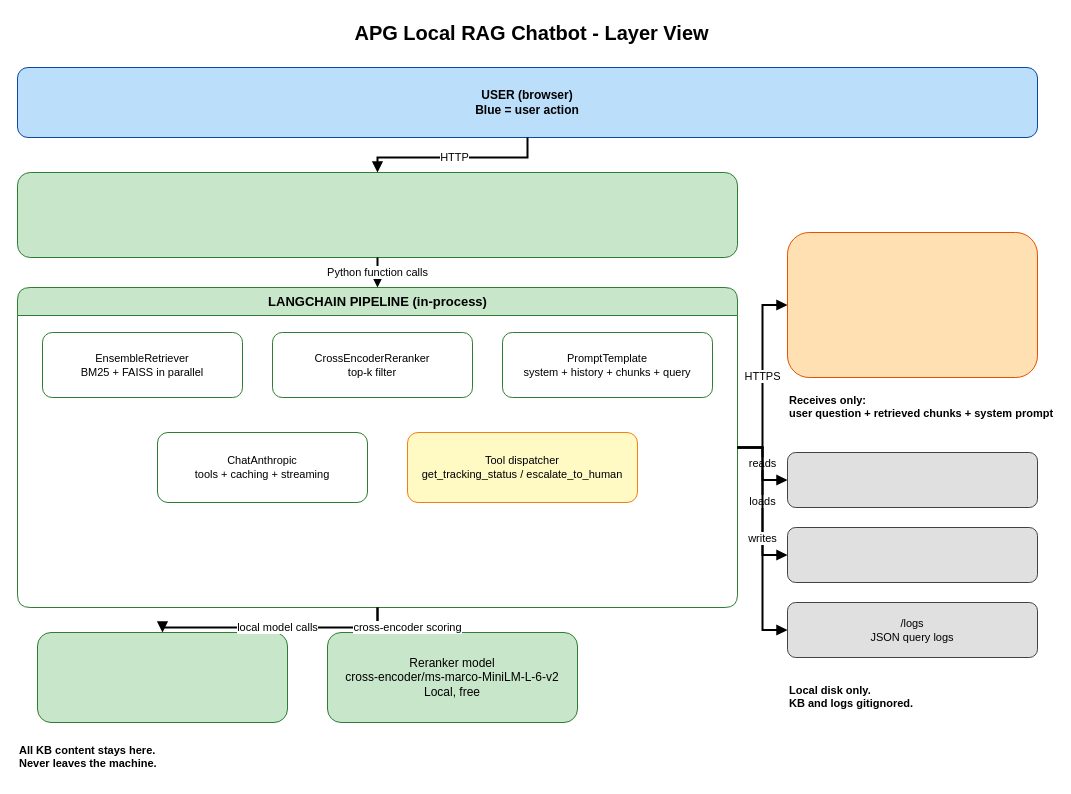
The diagram is 1071 pixels wide and 794 high, and some of its shapes have lost their labels. Here are the shapes that lost their labels. From the top down, the box of each, then its label:
(16, 172, 738, 258): STREAMLIT APP localhost:8501 Chat UI, session state, escalation counter
(786, 232, 1038, 378): ANTHROPIC API Claude Haiku 4.5 Tool calls + streaming Pay per token
(786, 452, 1038, 508): /kb markdown KB files
(786, 526, 1038, 582): /indexes FAISS topic indexes
(36, 632, 288, 722): Embedding model BGE-small-en-v1.5 Local, free
